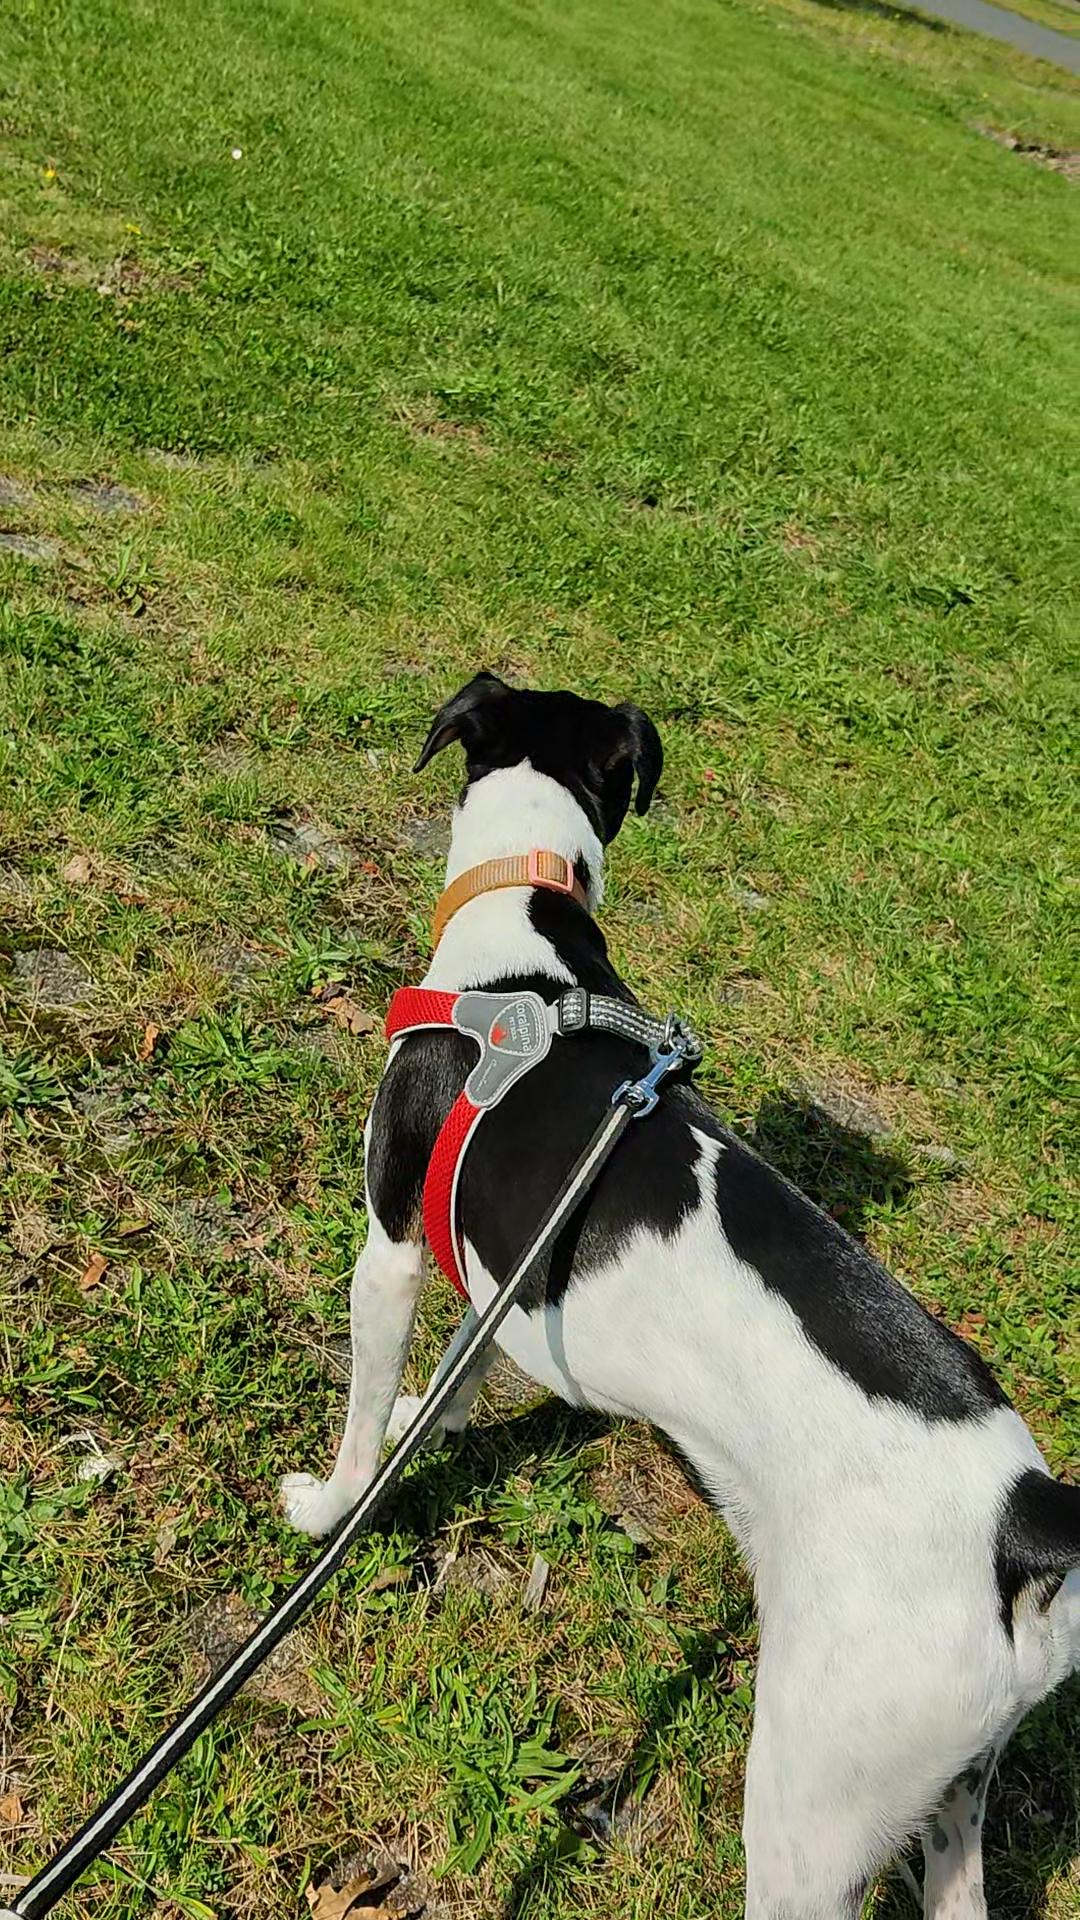Dog: (268, 665, 1079, 1919)
